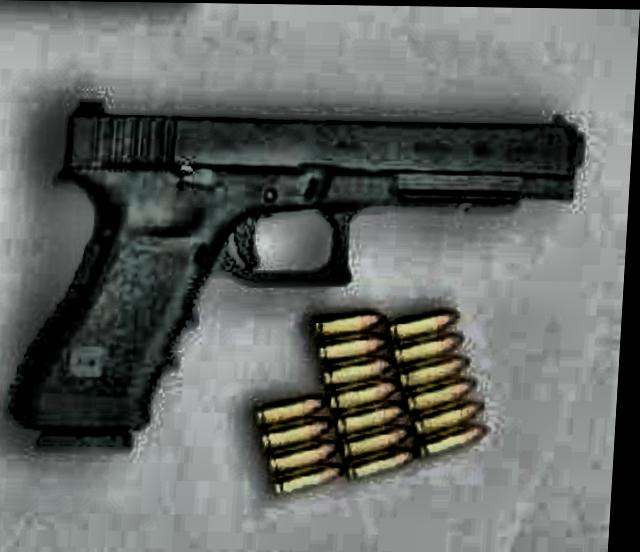pistol: (4, 102, 582, 461)
